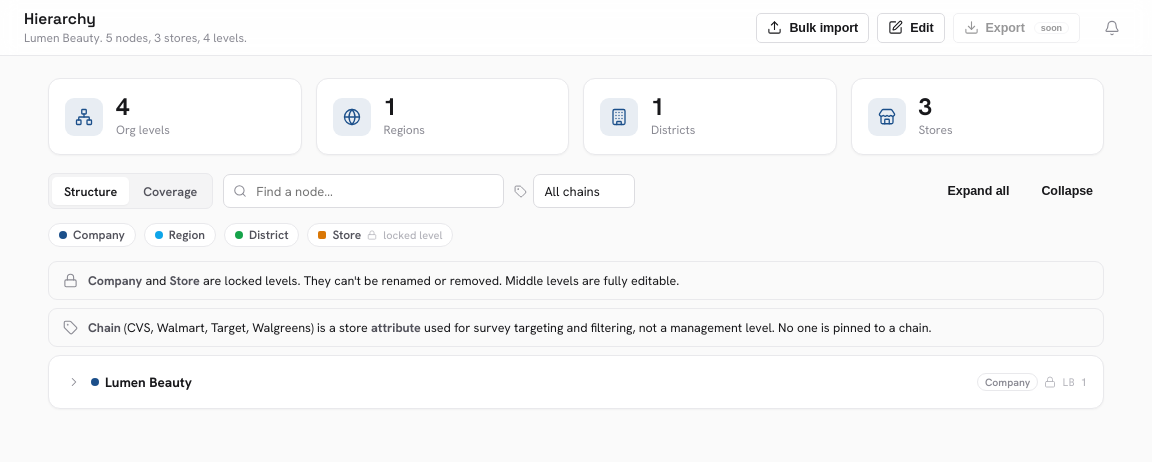
Test: Hierarchy page › renders root node and expands children on toggle click
This screenshot has width=1152, height=462.
Expected: the text "Lumen Beauty" is shown, x1=105 y1=373 x2=192 y2=391
Click the button named "Expand" at {"x": 74, "y": 382}, box x1=63 y1=371 x2=85 y2=393
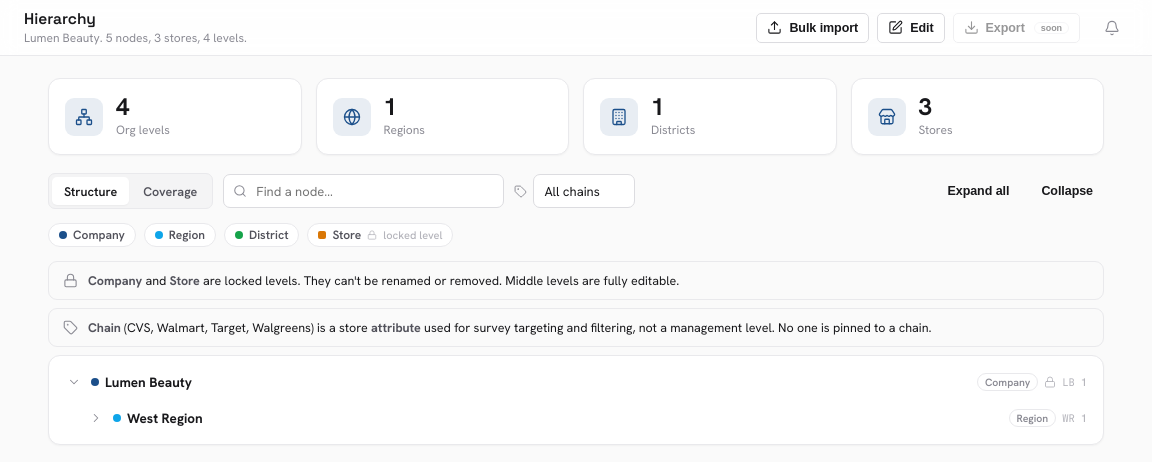
Expected: the text "West Region" is shown, x1=127 y1=409 x2=203 y2=427
